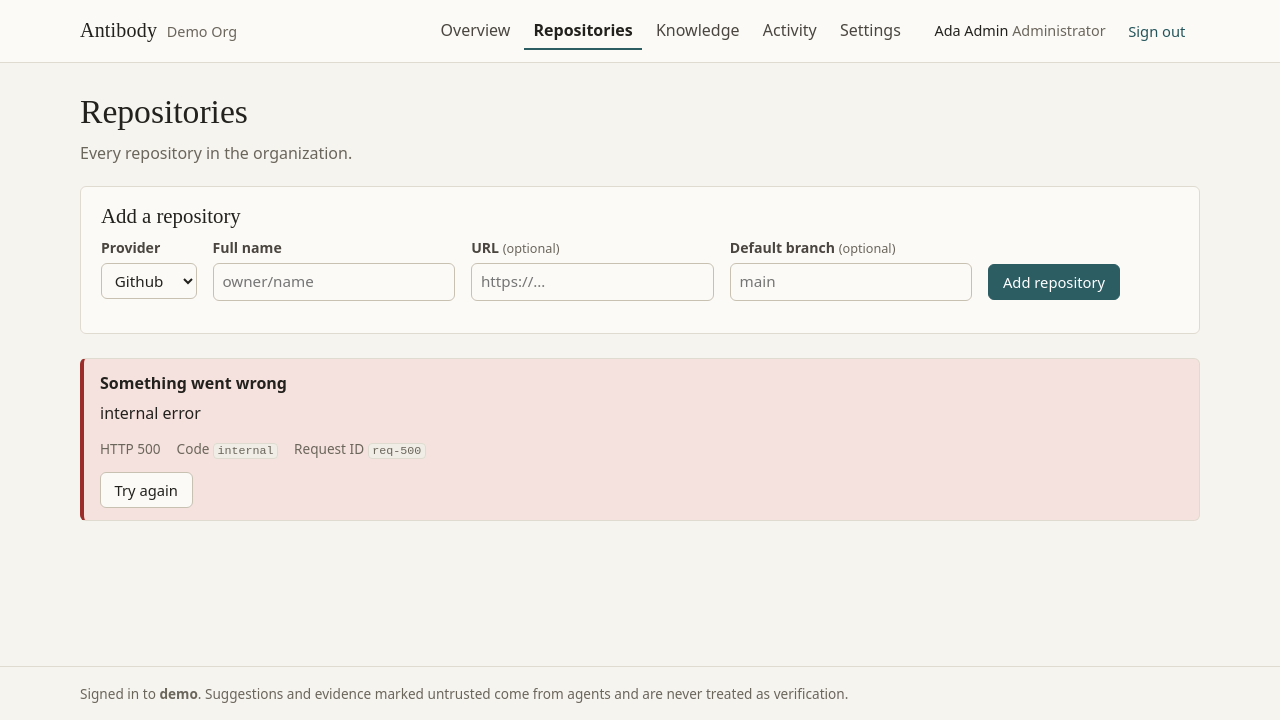
Test: route states › shows the error message, request id and a working retry for server errors
Expected: the message shows "Something went wrong", top-left (100, 372), bottom-right (287, 394)
Expected: the message shows "internal error", top-left (100, 402), bottom-right (201, 424)
Click the button "Try again". click: x=146, y=490
box: top-left (100, 472), bottom-right (192, 508)
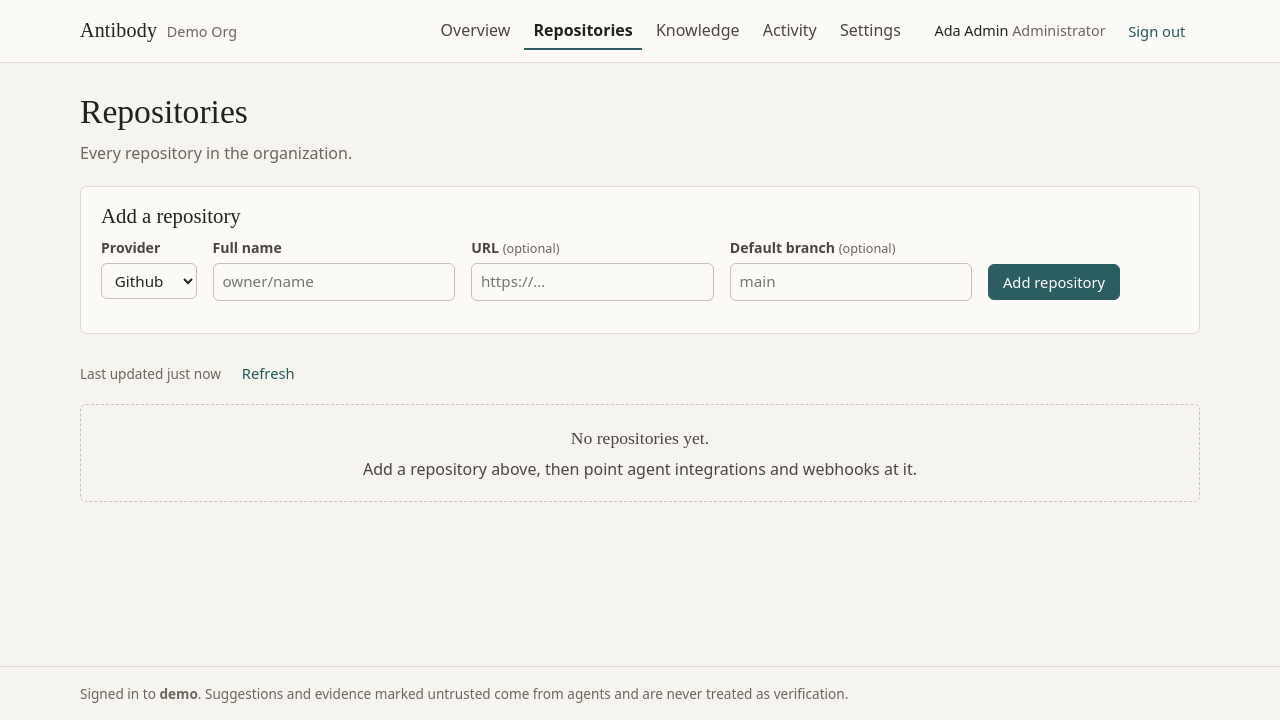
Expected: the text "No repositories yet." is shown, top-left (571, 428), bottom-right (709, 448)
